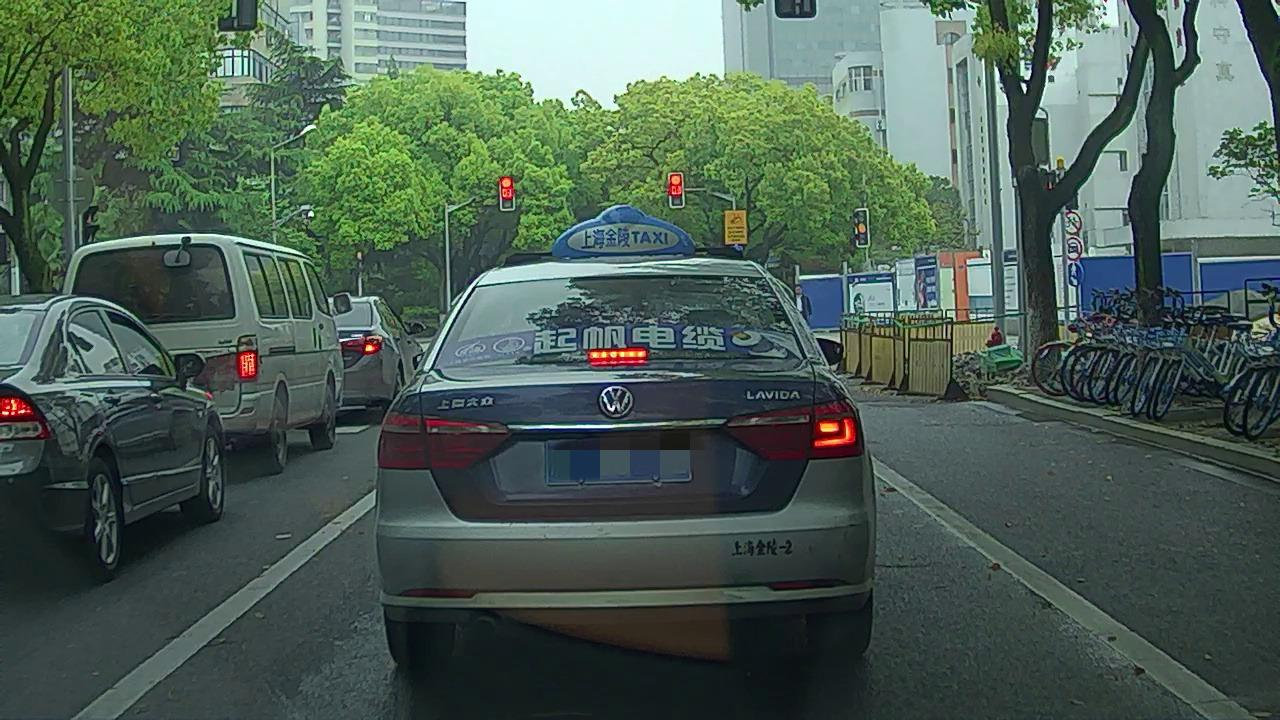traffic_light: (669, 174, 683, 209), (855, 209, 867, 247), (501, 176, 514, 211)
